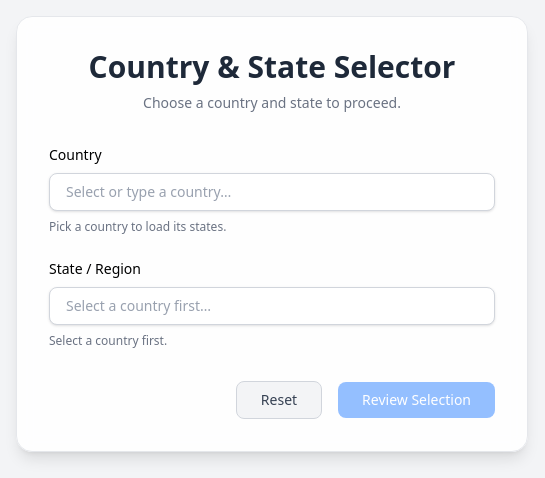
HomePage (integration) › loads countries, enables states after selecting country, and enables submit
COUNTRY: it's a textbox/combobox, not a select
Type "Aus" into the field labelled "Country" at (272, 192), box 49,173 -> 495,211
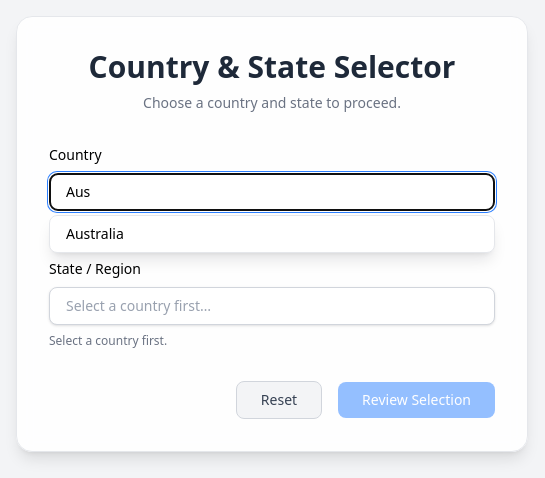
pick Australia from the popup list
Click the button "Australia" at (95, 234), box 50,216 -> 494,252
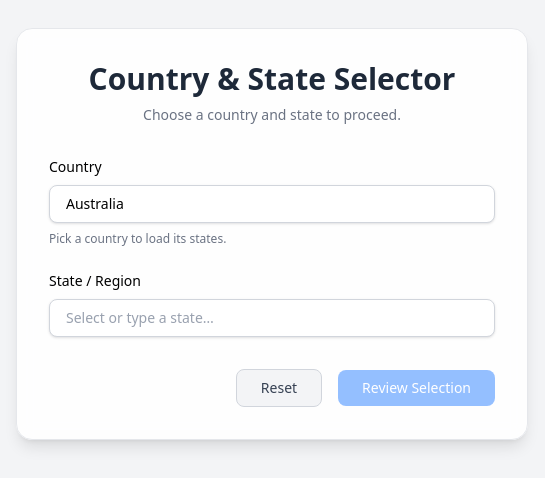
wait until states are loaded (MSW returns Queensland)
Type "Queen" into the field labelled "State / Region" at (272, 318), box 49,299 -> 495,337
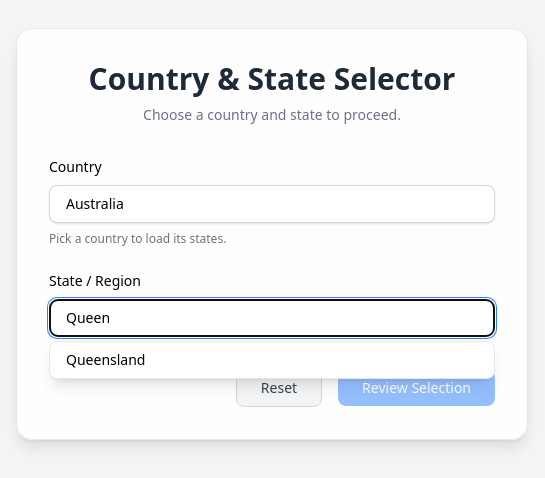
Click the button "Queensland" at (106, 360), box 50,342 -> 494,378
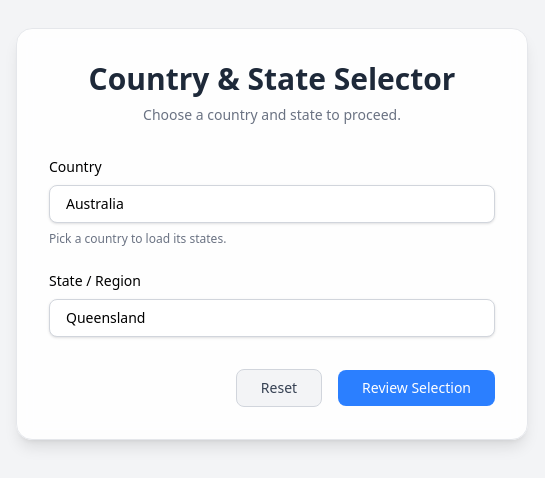
Result: the button "Review Selection" is enabled at 338,370 -> 495,406
